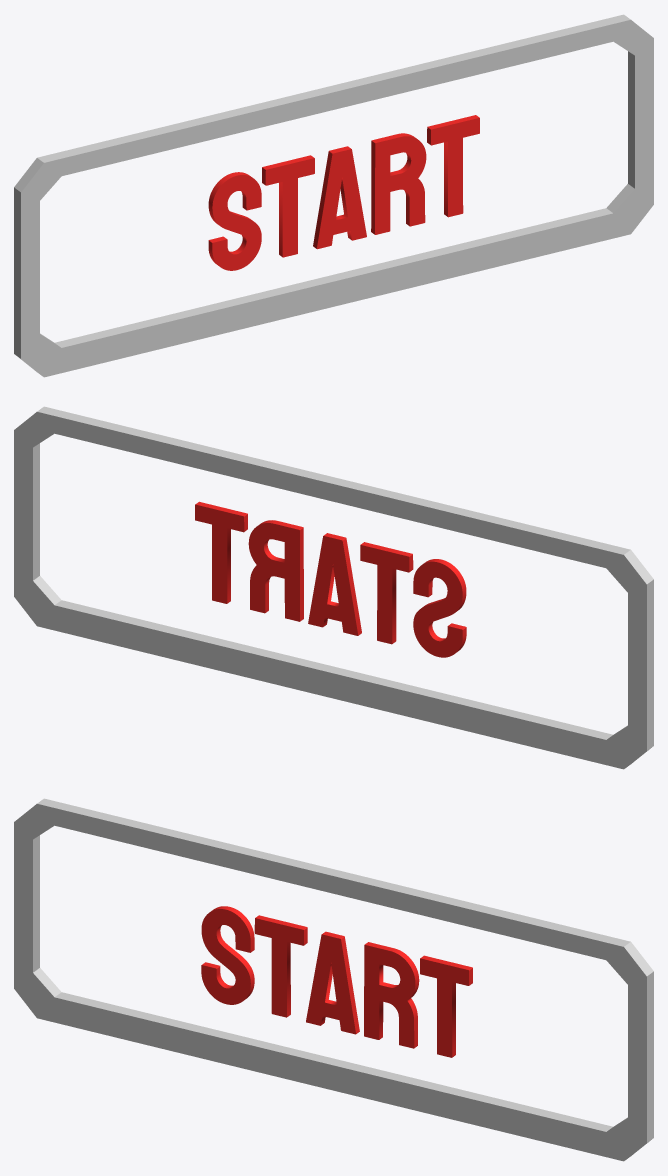
Rendered from StartTextDoor.fbx.
3 renders of one model, top to bottom at view 1: azimuth 30°, elevation 25°; view 2: azimuth 150°, elevation 25°; view 3: azimuth 330°, elevation 25°, orthographic.
Visible parts, largest first — view 1: TextRam, Text; view 2: TextRam, Text; view 3: TextRam, Text.
Boxes of the visible parts, <box> form: TextRam: <box>14,14,653,377</box>; Text: <box>208,115,479,270</box>; TextRam: <box>14,406,653,769</box>; Text: <box>195,501,466,657</box>; TextRam: <box>14,798,653,1161</box>; Text: <box>201,906,472,1057</box>.
Bounding box in the file's own units: 5.25 × 1.7 × 0.13.
